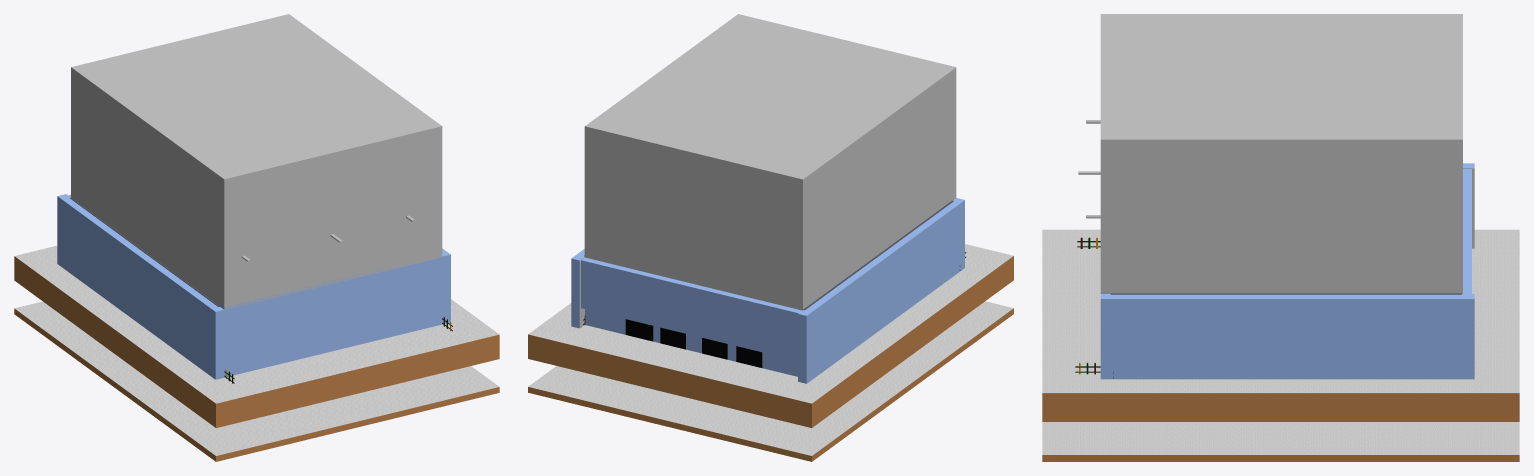
File: Dalgona.obj
3 views of the same model, side by side, from view 1: azimuth 30°, elevation 25°; view 2: azimuth 150°, elevation 25°; view 3: azimuth 270°, elevation 25° (orthographic). The views are drawn at different scales.
Parts seen in each view (by area): view 1: Part2, Part11, Extrafloor2, Part23, Baseplate1, Baseplate2, Extrafloor1, Part4; view 2: Part2, Union1, Extrafloor2, Part23, Baseplate1, Baseplate2, Extrafloor1, Part4; view 3: Part2, Part4, Baseplate2, Extrafloor2, Baseplate1, Extrafloor1, Union1, Union7.
Part boxes in pixels (<box>): Part2: <box>71,14,442,309</box>; Part11: <box>219,257,442,377</box>; Extrafloor2: <box>15,301,499,455</box>; Part23: <box>57,194,224,379</box>; Baseplate1: <box>14,256,499,427</box>; Baseplate2: <box>15,245,499,403</box>; Extrafloor1: <box>14,308,499,461</box>; Part4: <box>442,248,450,324</box>; Part2: <box>584,14,956,310</box>; Union1: <box>581,257,801,376</box>; Extrafloor2: <box>528,301,1013,455</box>; Part23: <box>798,198,964,383</box>; Baseplate1: <box>528,256,1013,427</box>; Baseplate2: <box>528,244,1013,403</box>; Extrafloor1: <box>528,308,1013,461</box>; Part4: <box>571,249,584,328</box>; Part2: <box>1100,14,1462,293</box>; Part4: <box>1100,294,1474,379</box>; Baseplate2: <box>1042,229,1519,392</box>; Extrafloor2: <box>1042,422,1519,454</box>; Baseplate1: <box>1042,393,1519,421</box>; Extrafloor1: <box>1042,455,1519,461</box>; Union1: <box>1463,169,1471,293</box>; Union7: <box>1110,293,1461,294</box>.
Bounding box in the file's own units: 165 × 143 × 204.
